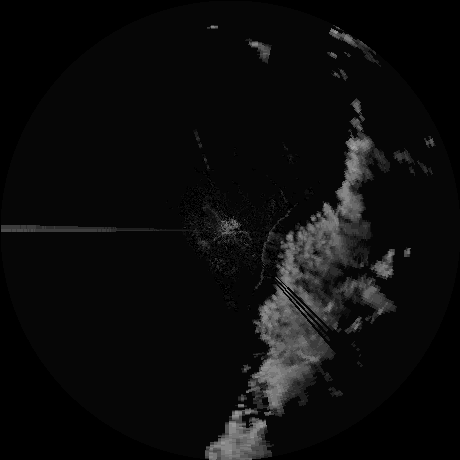frontgust: (257, 211, 291, 289)
